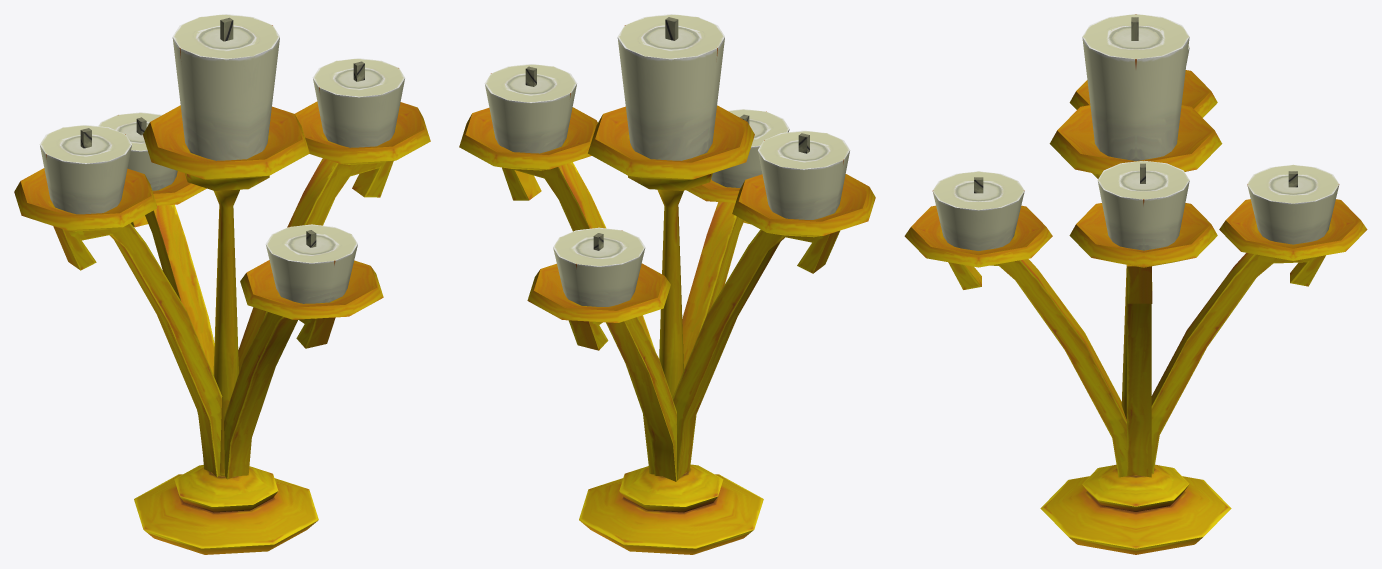
File: e_asset_candlestand_multi.fbx
3 renders of one model, left to right at view 1: azimuth 30°, elevation 25°; view 2: azimuth 150°, elevation 25°; view 3: azimuth 270°, elevation 25°, orthographic.
Parts seen in each view (by area): view 1: polySurface803; view 2: polySurface803; view 3: polySurface803.
Boxes of the visible parts, bbox=[...] form: polySurface803: bbox=[14, 14, 430, 554]; polySurface803: bbox=[459, 14, 875, 554]; polySurface803: bbox=[904, 14, 1367, 554].
Size of the model in its own units: 0.5702 by 0.6876 by 0.5702.
